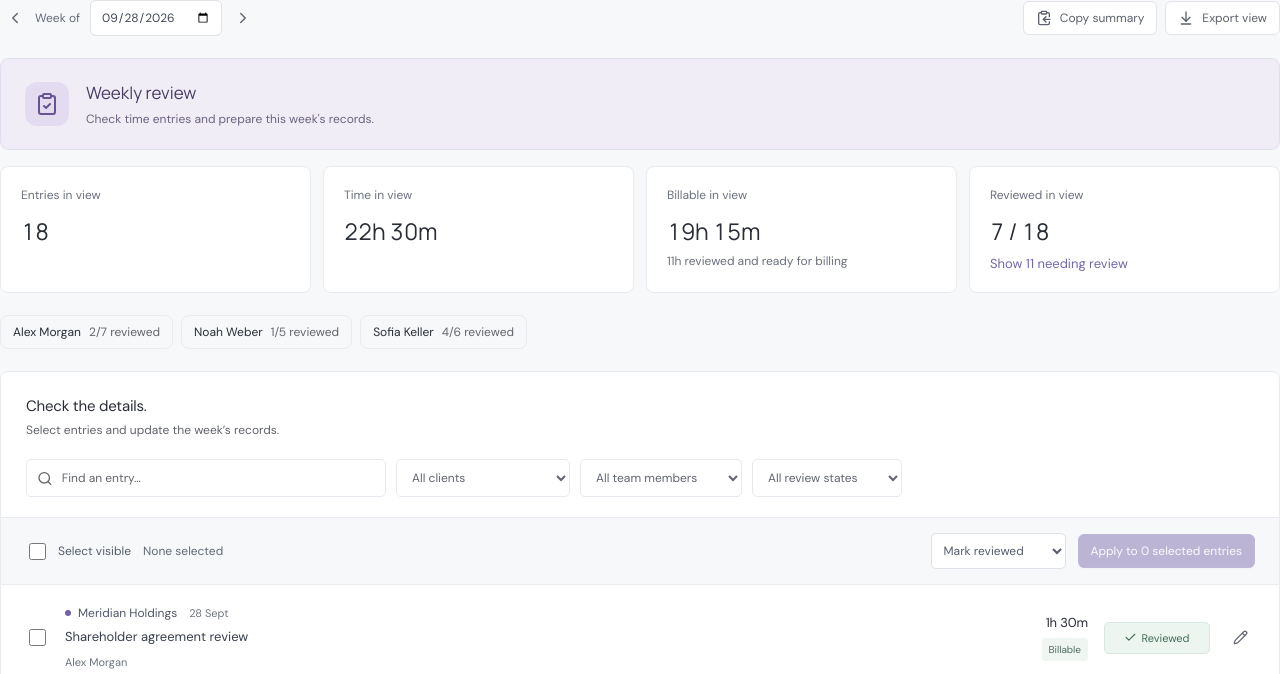
Weekly review scope › clears the selection when the view changes so hidden rows are never affected
This screenshot has width=1280, height=674.
Click the checkbox named "Select visible entries" at coordinates (38, 551), box [29, 542, 46, 560]
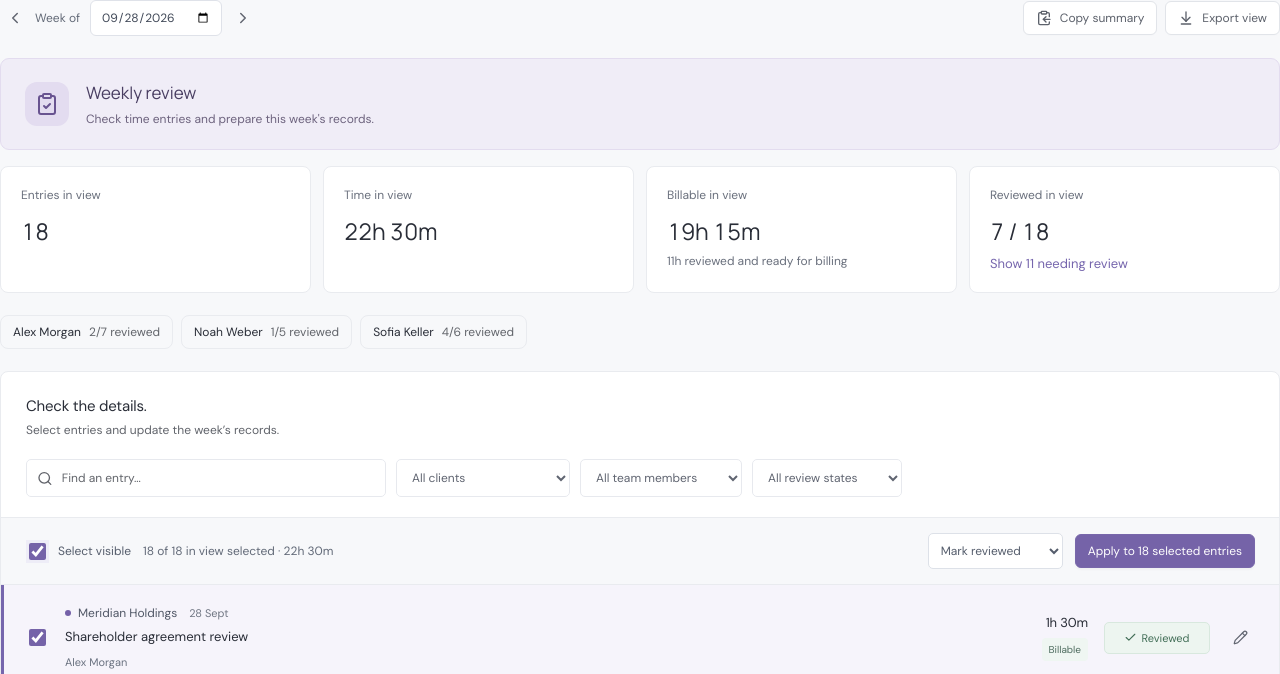
expect the text "18 of 18 in view selected · 22h 30m" is shown: met, box [143, 543, 334, 559]
Select "Meridian Holdings" in the dropdown named "Review client" at coordinates (483, 478), box [396, 459, 570, 497]
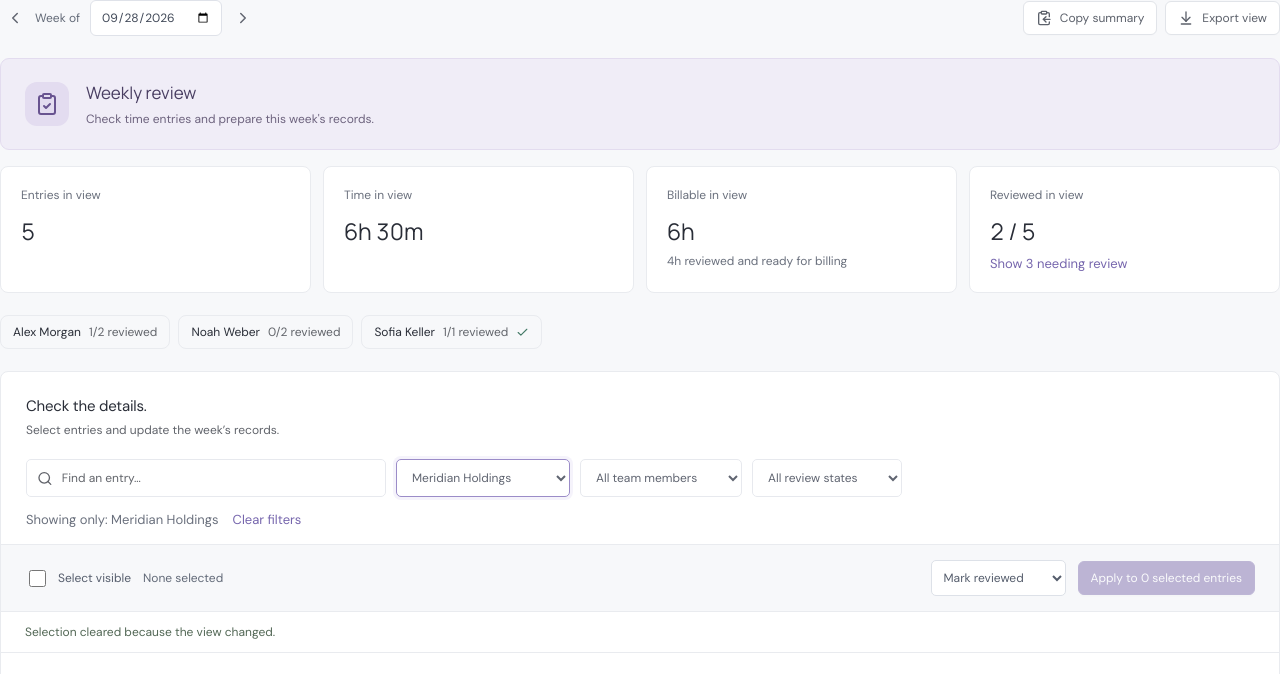
expect the text "None selected" is shown: met, box [143, 570, 223, 586]
expect the text "Selection cleared because the view changed." is shown: met, box [25, 624, 275, 640]
expect the button "Apply to 0 selected entries" is disabled: met, box [1078, 561, 1255, 595]
